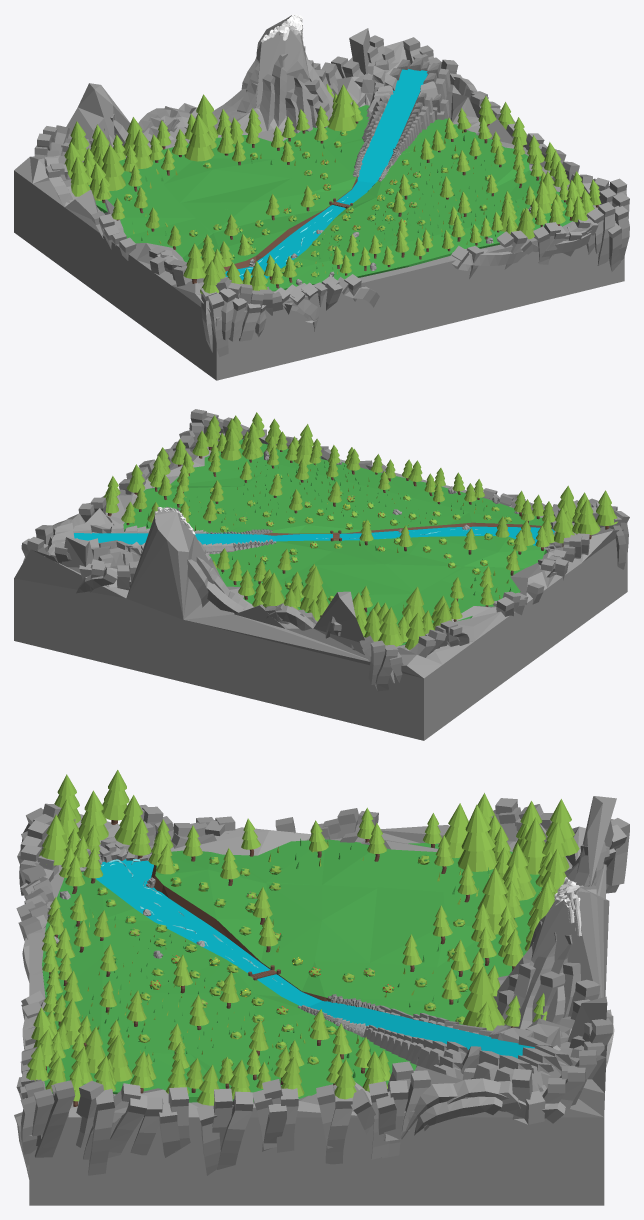
Rendered from environment.glb.
3 renders of one model, top to bottom at view 1: azimuth 30°, elevation 25°; view 2: azimuth 150°, elevation 25°; view 3: azimuth 270°, elevation 25°, orthographic. The views are drawn at different scales.
Parts seen in each view (by area): view 1: Node, Plane, Node.072; view 2: Node, Plane; view 3: Node, Plane, Node.020, Node.019, Node.022.
Part boxes in pixels (x1=…): Node: x1=14, y1=14, x2=629, y2=380; Plane: x1=357, y1=69, x2=427, y2=182; Node.072: x1=361, y1=65, x2=385, y2=105; Node: x1=14, y1=409, x2=629, y2=740; Plane: x1=74, y1=533, x2=276, y2=544; Node: x1=14, y1=770, x2=629, y2=1205; Plane: x1=309, y1=1001, x2=534, y2=1058; Node.020: x1=494, y1=1055, x2=542, y2=1119; Node.019: x1=471, y1=1050, x2=499, y2=1080; Node.022: x1=522, y1=1047, x2=561, y2=1090.
Bounding box in the file's own units: 4.8 × 1.72 × 4.24.
